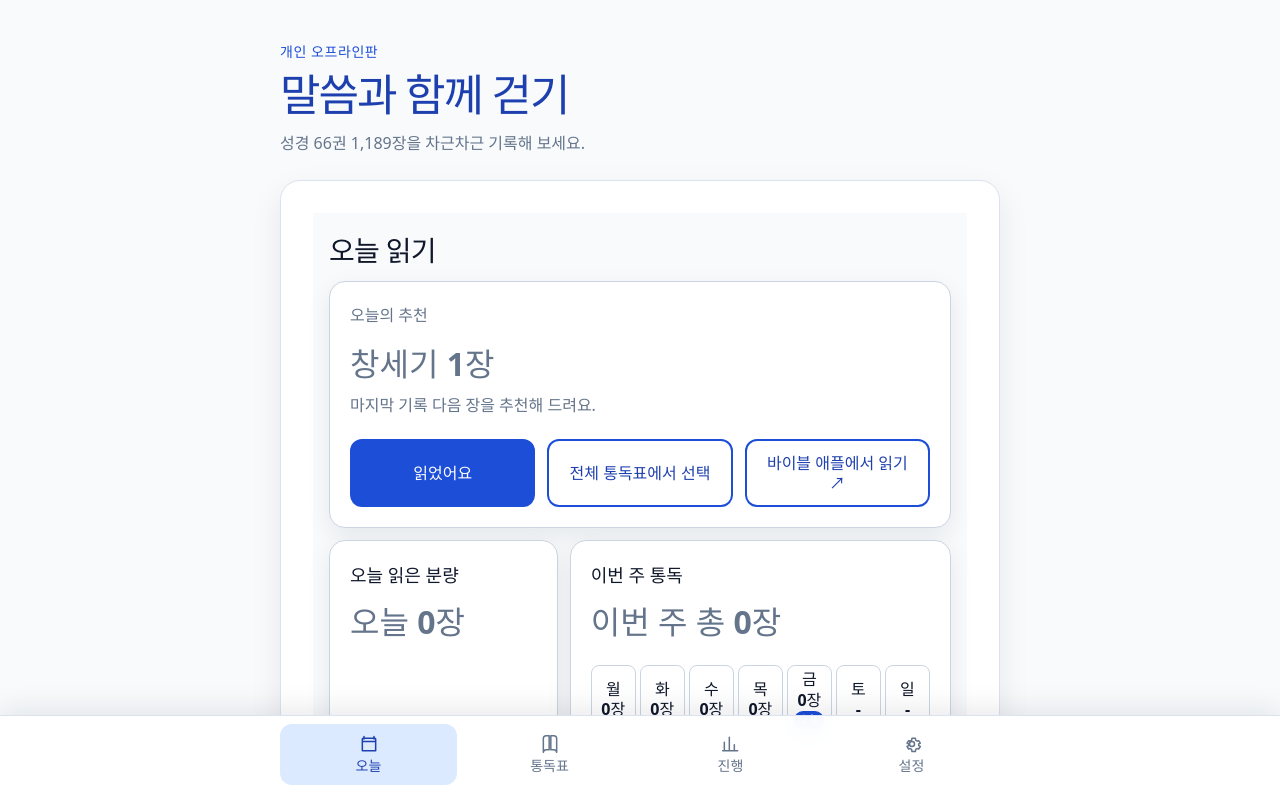
App reading journey › 새해에는 이전 연도 기록을 보존하면서 통독표와 진행률을 0에서 시작한다
This screenshot has width=1280, height=793.
Expected: the text "창세기 1장" is shown, [350, 342, 494, 385]
Expected: the text "오늘 0장" is shown, [350, 600, 465, 643]
Click the tab "통독표" at (550, 755), box [461, 724, 638, 785]
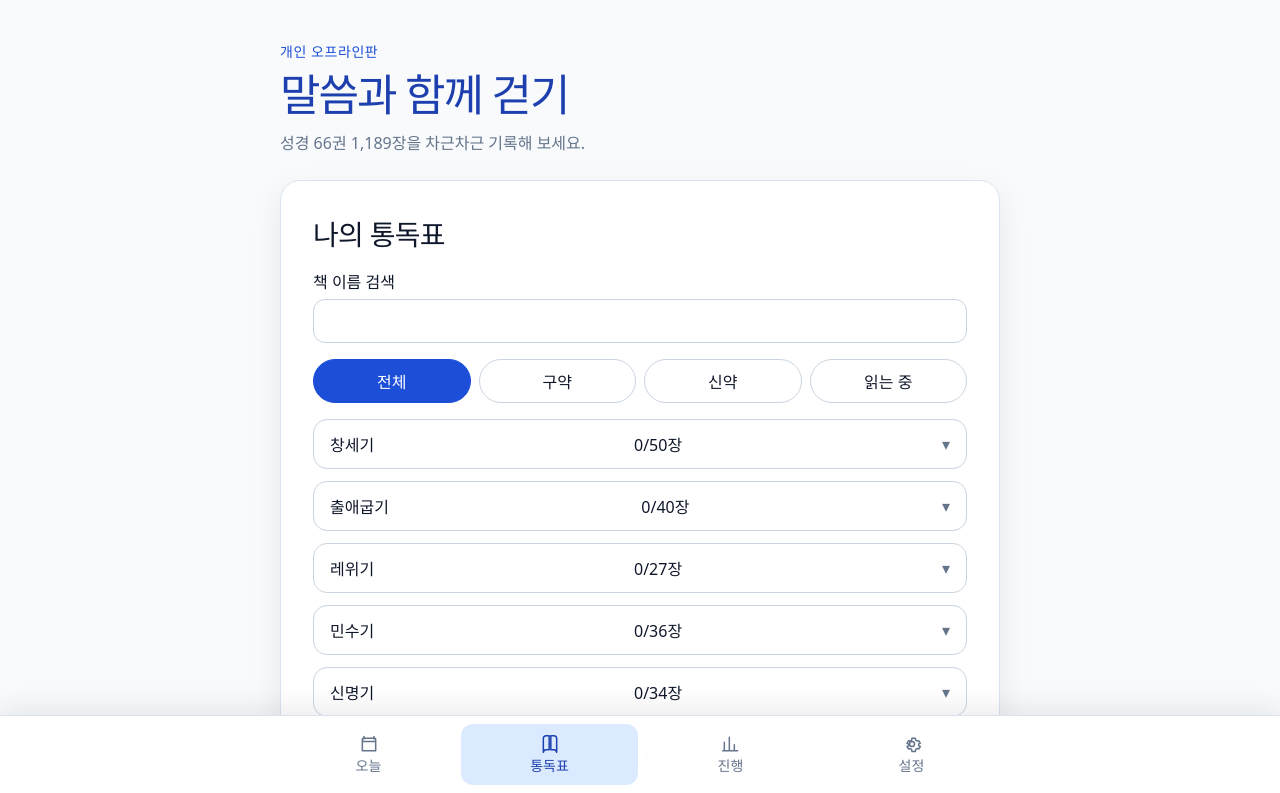
Now the button with aria-label "창세기, 0/50장, 펼치기" is shown, box [314, 420, 966, 468]
Click the tab "진행" at (730, 755), box [642, 724, 819, 785]
(page scrolled)
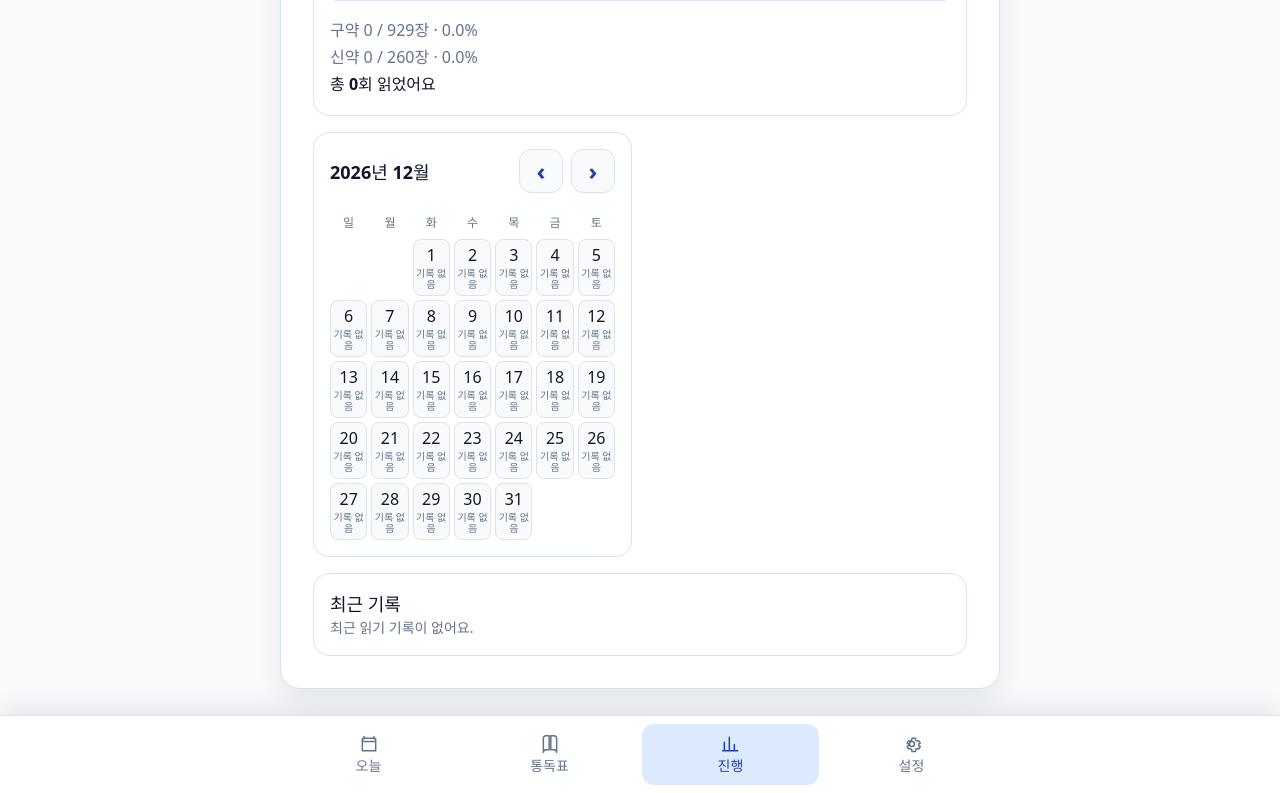
Now the text "최근 읽기 기록이 없어요." is shown, box [330, 618, 474, 636]
